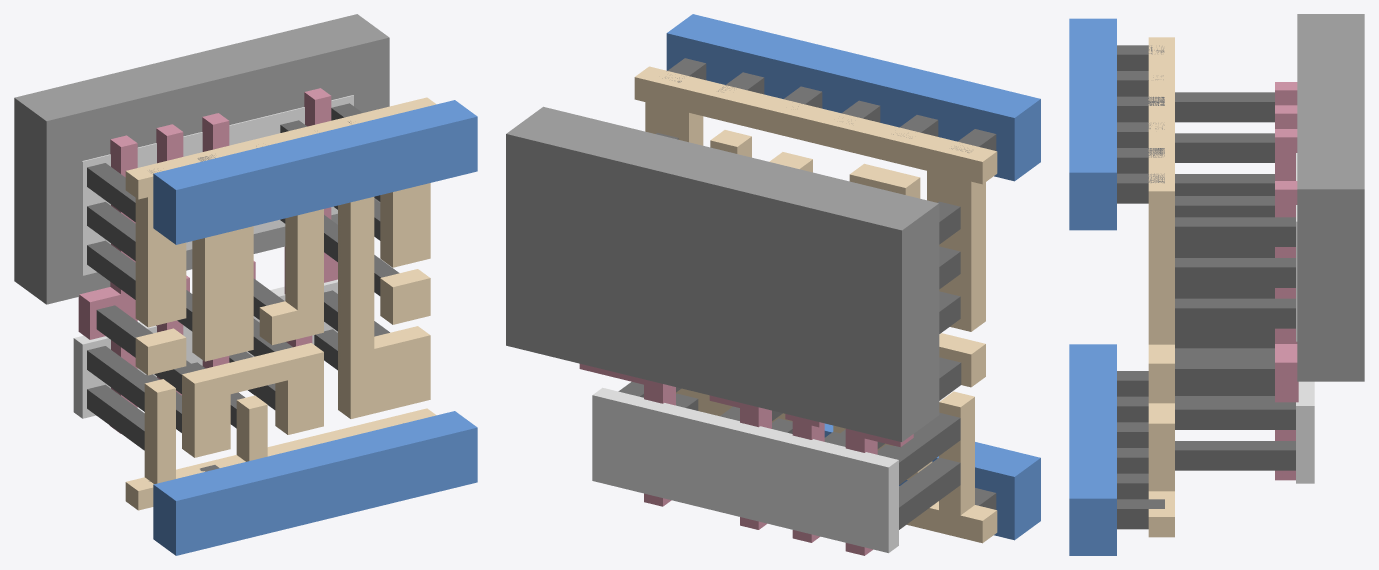
The model's file is sky130_fd_sc_hd__o31ai_1.gds.gltf.
3 views of the same model, side by side, from view 1: azimuth 30°, elevation 25°; view 2: azimuth 150°, elevation 25°; view 3: azimuth 270°, elevation 25° (orthographic). The views are drawn at different scales.
Parts seen in each view (by area): view 1: sky130_fd_sc_hd__o31ai_1_li1, sky130_fd_sc_hd__o31ai_1_met1, sky130_fd_sc_hd__o31ai_1_nwell, sky130_fd_sc_hd__o31ai_1_licon, sky130_fd_sc_hd__o31ai_1_poly, sky130_fd_sc_hd__o31ai_1_diff; view 2: sky130_fd_sc_hd__o31ai_1_nwell, sky130_fd_sc_hd__o31ai_1_li1, sky130_fd_sc_hd__o31ai_1_diff, sky130_fd_sc_hd__o31ai_1_met1, sky130_fd_sc_hd__o31ai_1_licon, sky130_fd_sc_hd__o31ai_1_poly, sky130_fd_sc_hd__o31ai_1_mcon; view 3: sky130_fd_sc_hd__o31ai_1_licon, sky130_fd_sc_hd__o31ai_1_nwell, sky130_fd_sc_hd__o31ai_1_met1, sky130_fd_sc_hd__o31ai_1_li1, sky130_fd_sc_hd__o31ai_1_mcon, sky130_fd_sc_hd__o31ai_1_poly, sky130_fd_sc_hd__o31ai_1_diff.
Part boxes in pixels (x1,y1,x2,y2): sky130_fd_sc_hd__o31ai_1_li1: (125, 97, 436, 510); sky130_fd_sc_hd__o31ai_1_met1: (153, 100, 477, 555); sky130_fd_sc_hd__o31ai_1_nwell: (14, 14, 389, 304); sky130_fd_sc_hd__o31ai_1_licon: (87, 103, 399, 450); sky130_fd_sc_hd__o31ai_1_poly: (78, 88, 337, 433); sky130_fd_sc_hd__o31ai_1_diff: (73, 95, 353, 418); sky130_fd_sc_hd__o31ai_1_nwell: (506, 106, 939, 441); sky130_fd_sc_hd__o31ai_1_li1: (634, 66, 997, 543); sky130_fd_sc_hd__o31ai_1_diff: (592, 387, 898, 553); sky130_fd_sc_hd__o31ai_1_met1: (666, 14, 1040, 540); sky130_fd_sc_hd__o31ai_1_licon: (618, 133, 961, 529); sky130_fd_sc_hd__o31ai_1_poly: (579, 364, 913, 555); sky130_fd_sc_hd__o31ai_1_mcon: (662, 58, 996, 509); sky130_fd_sc_hd__o31ai_1_licon: (1175, 92, 1295, 470); sky130_fd_sc_hd__o31ai_1_nwell: (1297, 14, 1364, 381); sky130_fd_sc_hd__o31ai_1_met1: (1069, 18, 1116, 555); sky130_fd_sc_hd__o31ai_1_li1: (1148, 37, 1174, 537); sky130_fd_sc_hd__o31ai_1_mcon: (1117, 45, 1164, 529); sky130_fd_sc_hd__o31ai_1_poly: (1275, 82, 1298, 480); sky130_fd_sc_hd__o31ai_1_diff: (1296, 153, 1314, 483).
Size of the model in its own units: 3.14 by 3.2 by 2.24.
